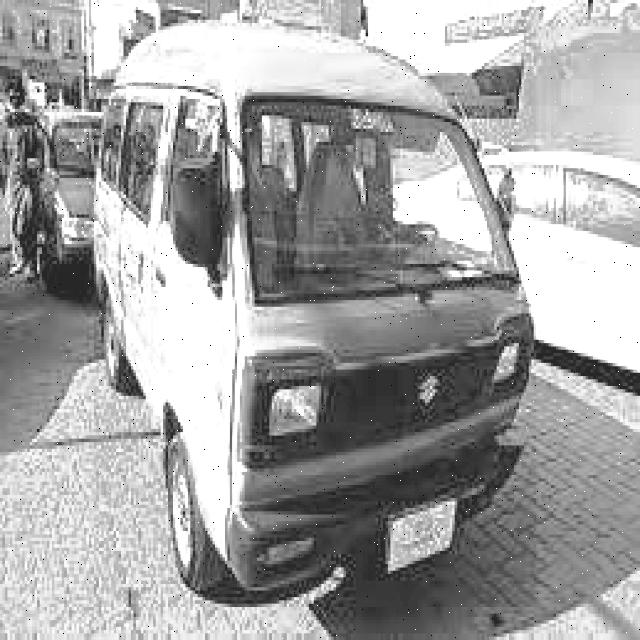LCV: (91, 27, 536, 610)
